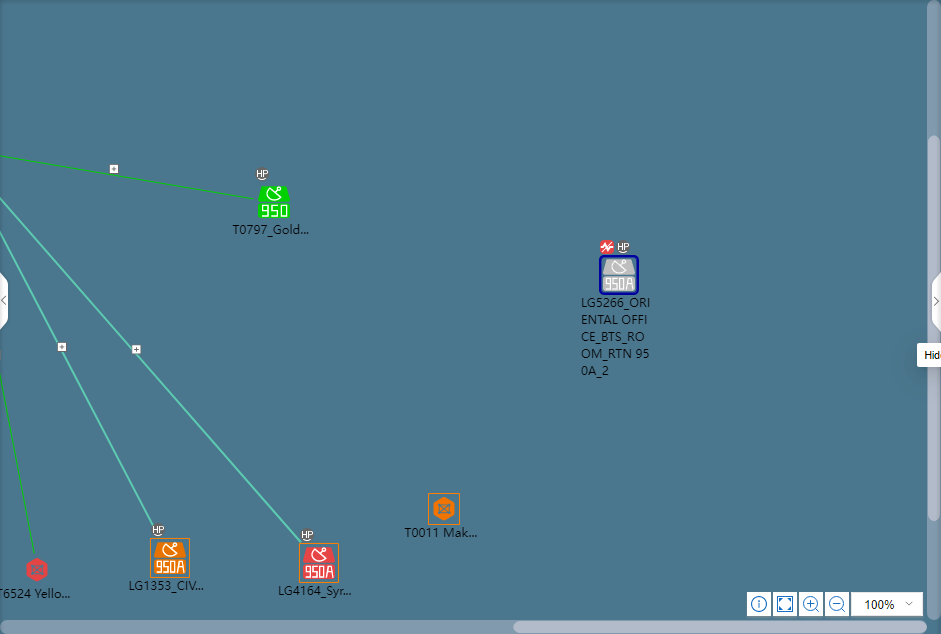Link_Blue: (0, 196, 302, 543), (0, 230, 159, 537)
Link_Green: (0, 154, 256, 201)
RTN_Gray: (600, 258, 636, 293)
RTN_Green: (258, 186, 288, 218)
RTN_Orange: (151, 540, 189, 577)
RTN_Red: (301, 547, 337, 581)
